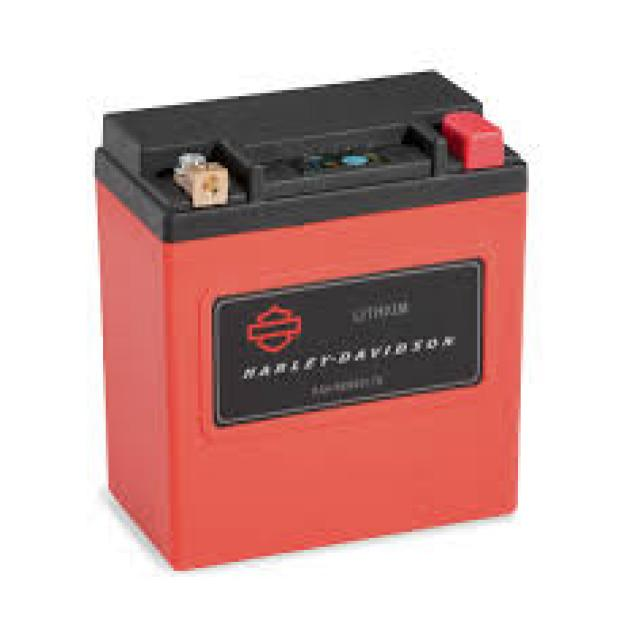non-organic waste: (92, 71, 533, 574)
